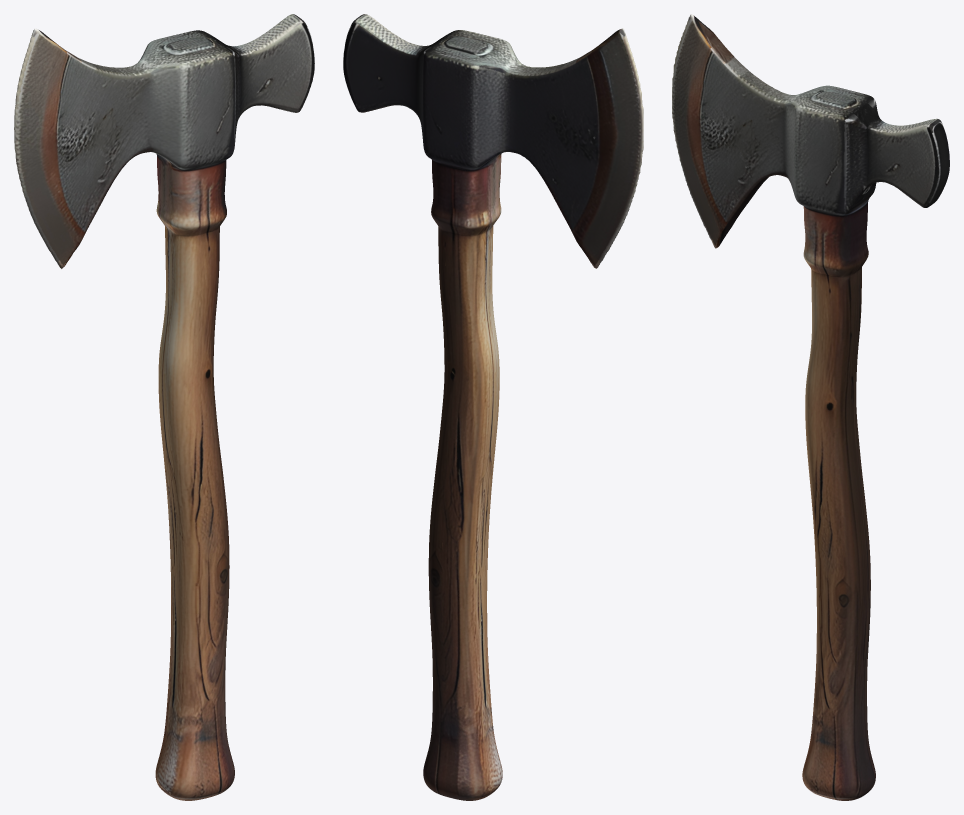
The model's file is Tripo.glb.
3 views of the same model, side by side, from view 1: azimuth 30°, elevation 25°; view 2: azimuth 150°, elevation 25°; view 3: azimuth 330°, elevation 25° (orthographic). The views are drawn at different scales.
Visible parts, largest first — view 1: geometry_0; view 2: geometry_0; view 3: geometry_0.
Boxes of the visible parts, x1=… form: geometry_0: x1=14, y1=14, x2=314, y2=800; geometry_0: x1=343, y1=14, x2=643, y2=800; geometry_0: x1=672, y1=14, x2=949, y2=800.
Size of the model in its own units: 0.7195 by 1.87 by 0.1542.
Materials: 1 (1 with a texture image).
